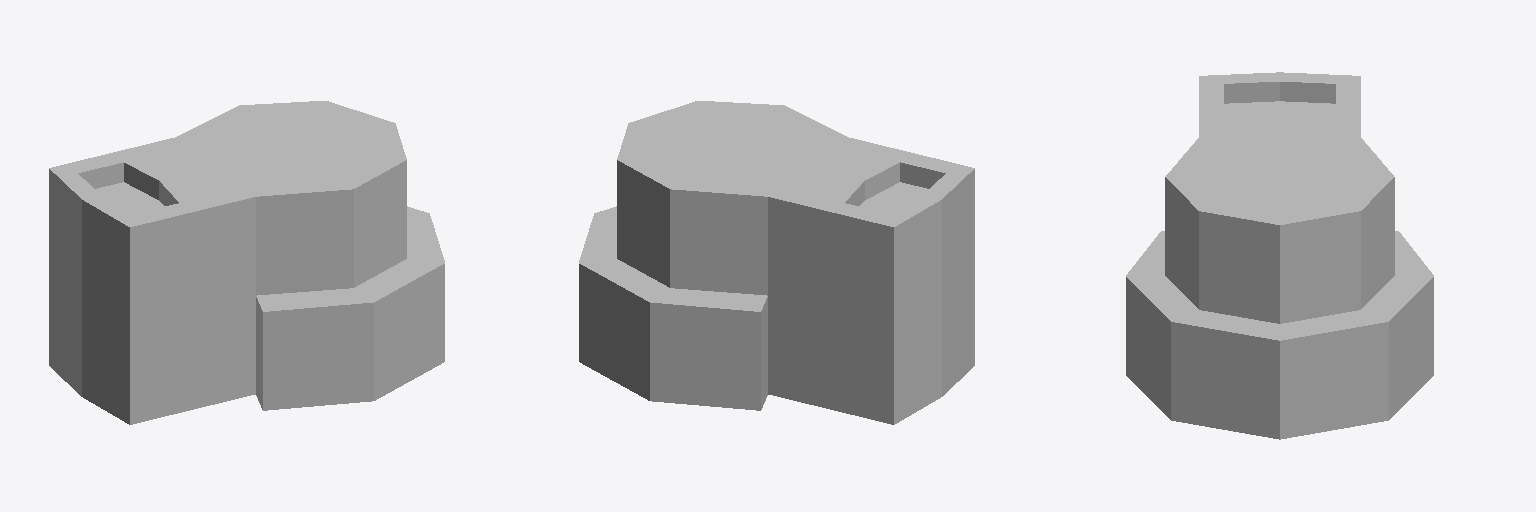
Rendered from motor.obj.
The picture shows the model from 3 angles: view 1: azimuth 30°, elevation 25°; view 2: azimuth 150°, elevation 25°; view 3: azimuth 270°, elevation 25°; orthographic projection.
Parts seen in each view (by area): view 1: Motor_Base; view 2: Motor_Base; view 3: Motor_Base.
Boxes of the visible parts, box(x1,y1,x2,y2) form: Motor_Base: box(49, 101, 444, 424); Motor_Base: box(579, 101, 974, 424); Motor_Base: box(1126, 72, 1433, 439).
Size of the model in its own units: 0.1491 by 0.081 by 0.1146.